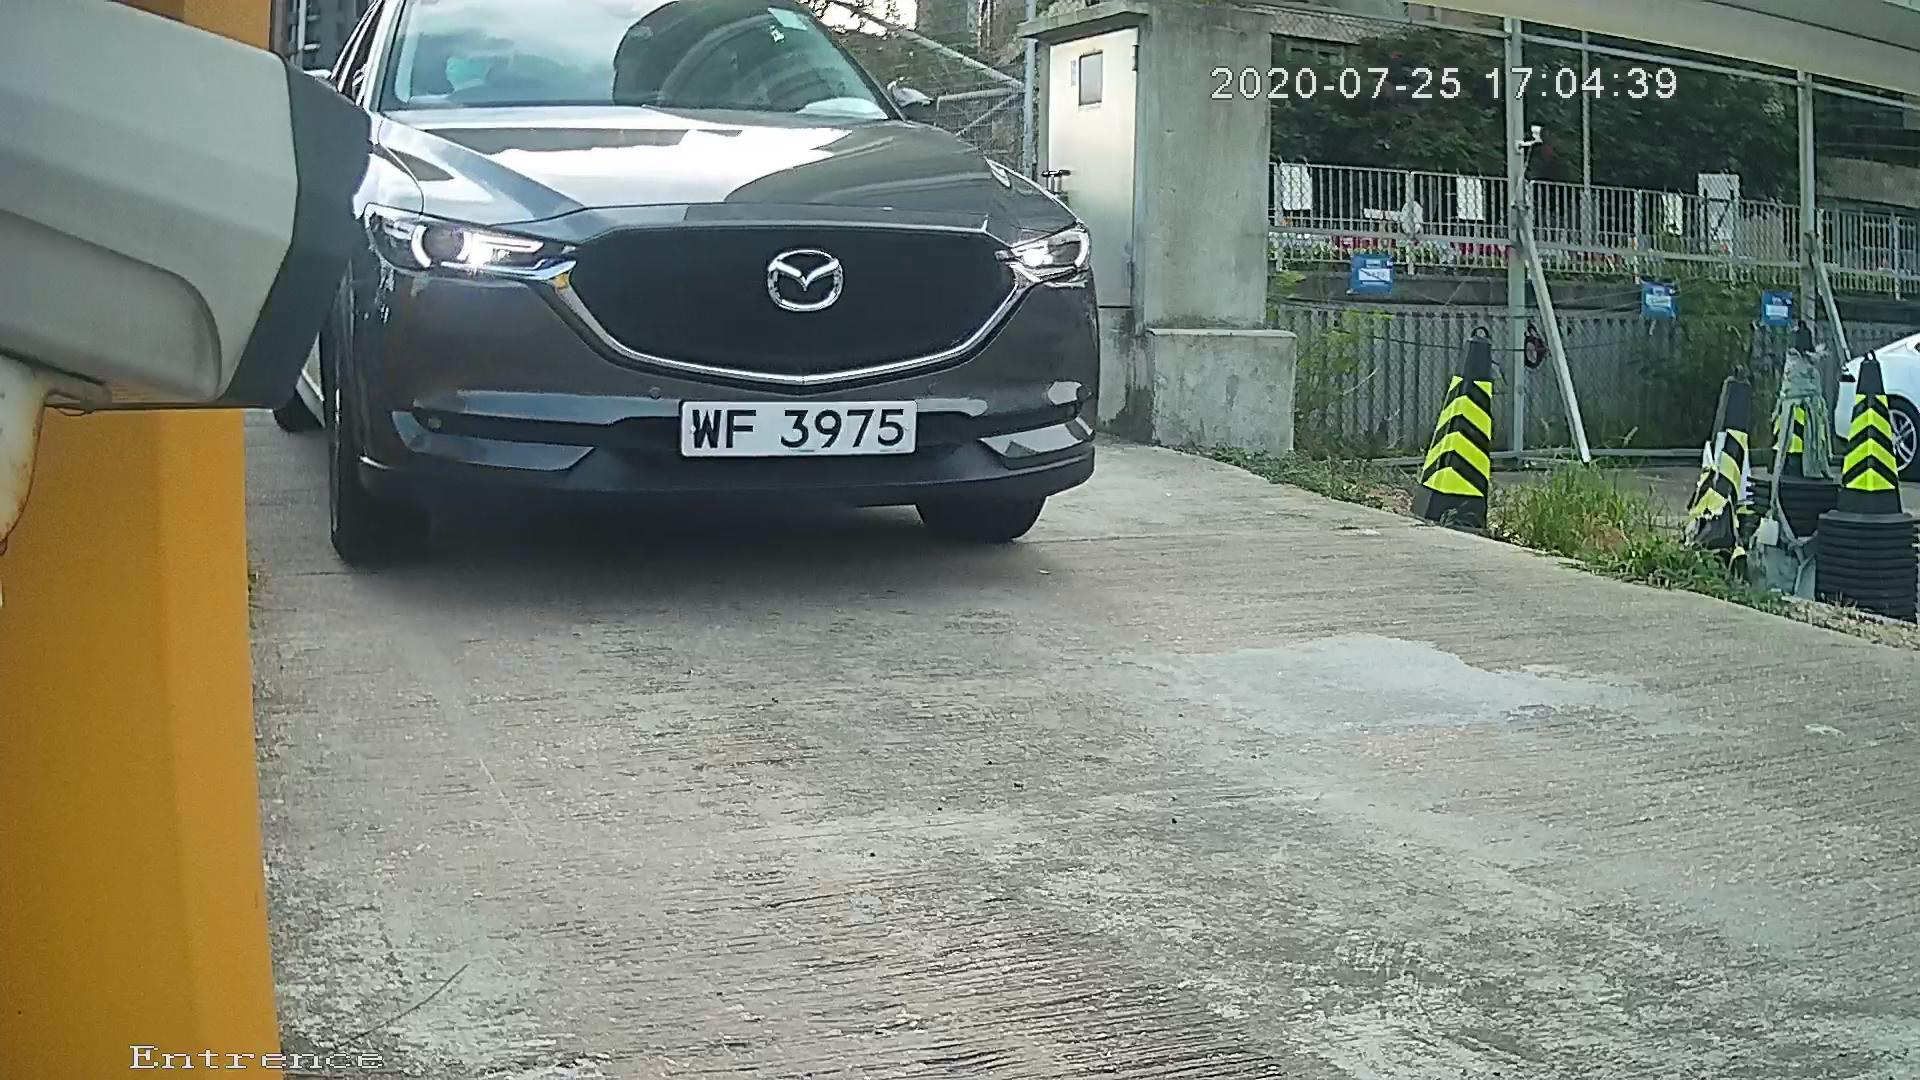License Plate: (661, 386, 943, 473)
